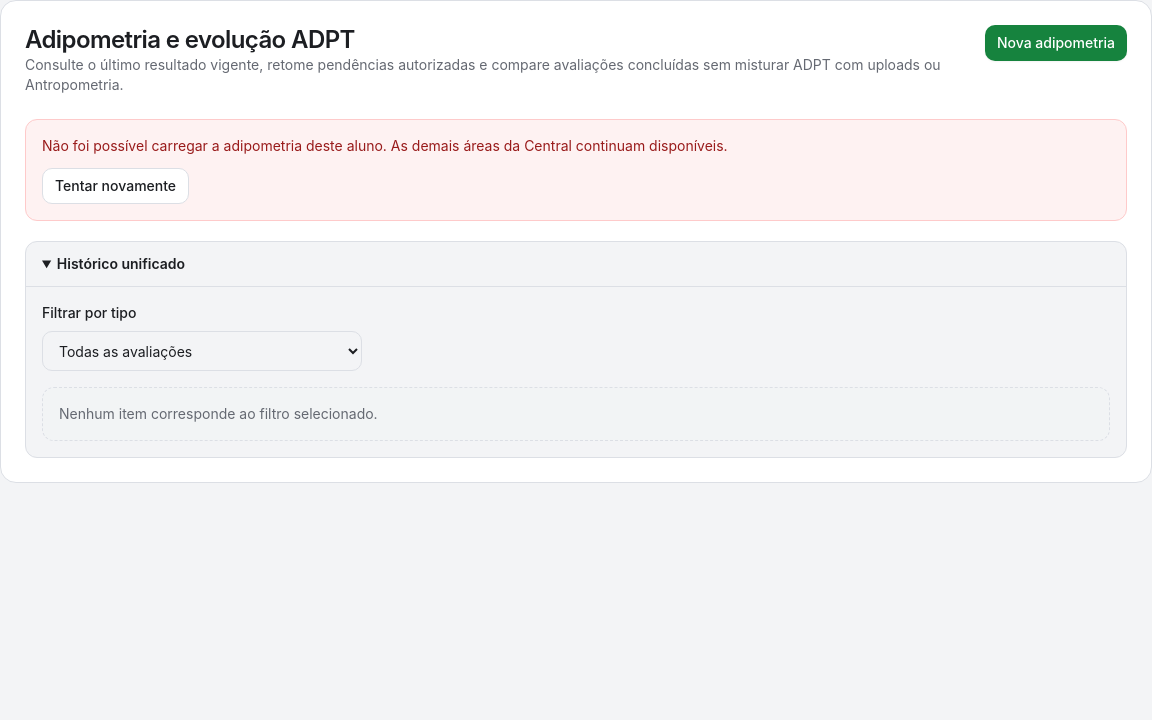
Scenario: AlunoAdipometryEvolutionCard › isola falha da API e oferece nova tentativa
Expected: the message shows "demais áreas da Central continuam disponíveis", [42,137,728,154]
Click the button "Tentar novamente".
click(116, 186)  # box [42,168,189,204]
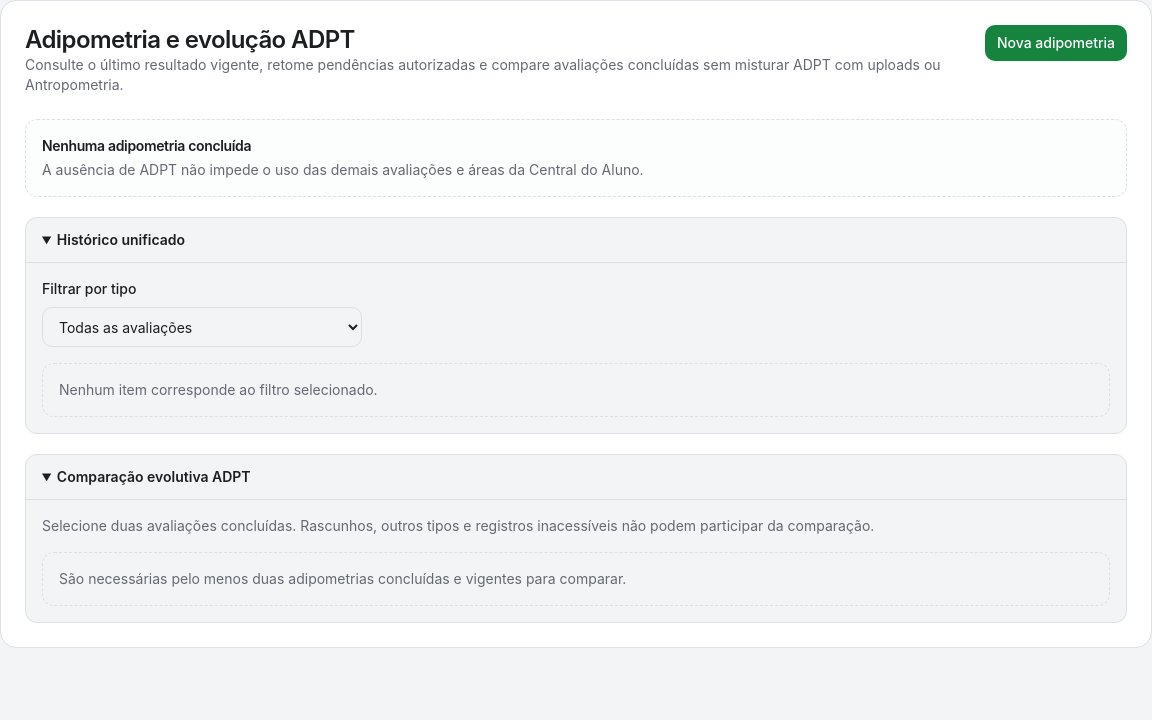
Result: the heading "Nenhuma adipometria concluída" is shown at [42,137,251,154]
